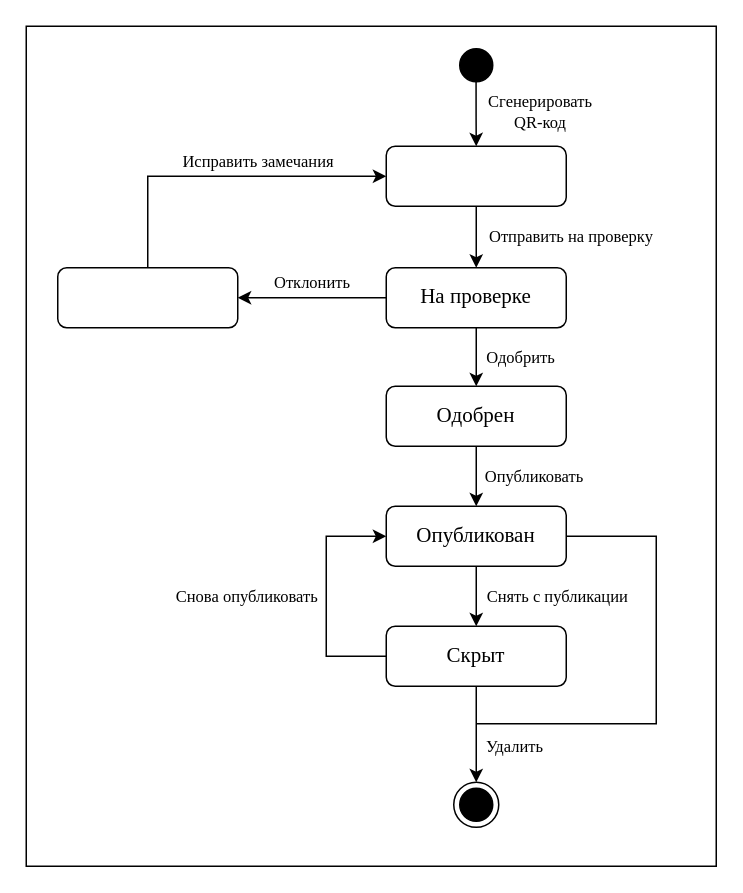
Image size: 743x893. Some labels were removed from this diagram. The shapes that lost their labels are listed below. From the top down, each one's centre as x and y in pixels, then its label:
At (x=475, y=175): "Черновик".
At (x=147, y=297): "Отклонен".
